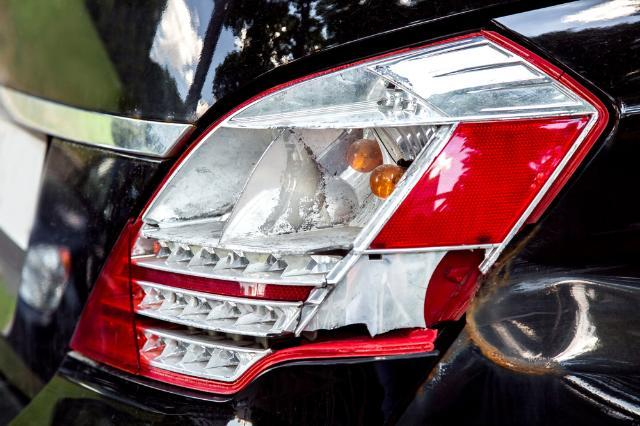dent: (468, 259, 603, 365)
lamp broken: (67, 28, 612, 395)
